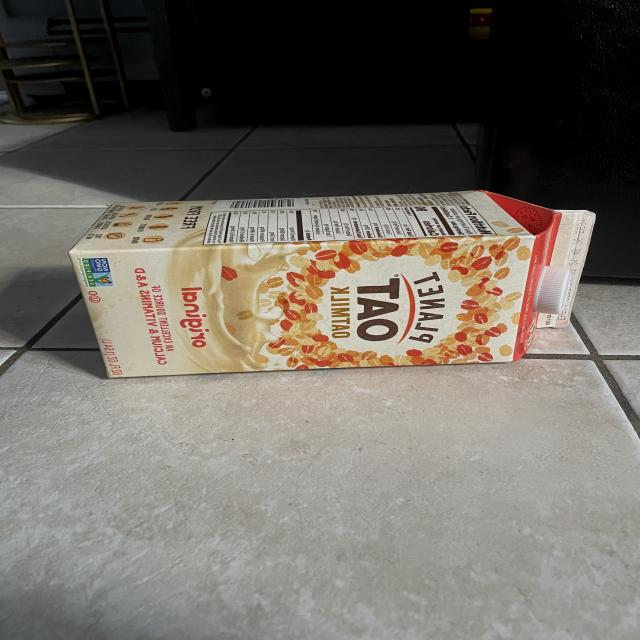Planet Oat Original: (64, 188, 598, 382)
